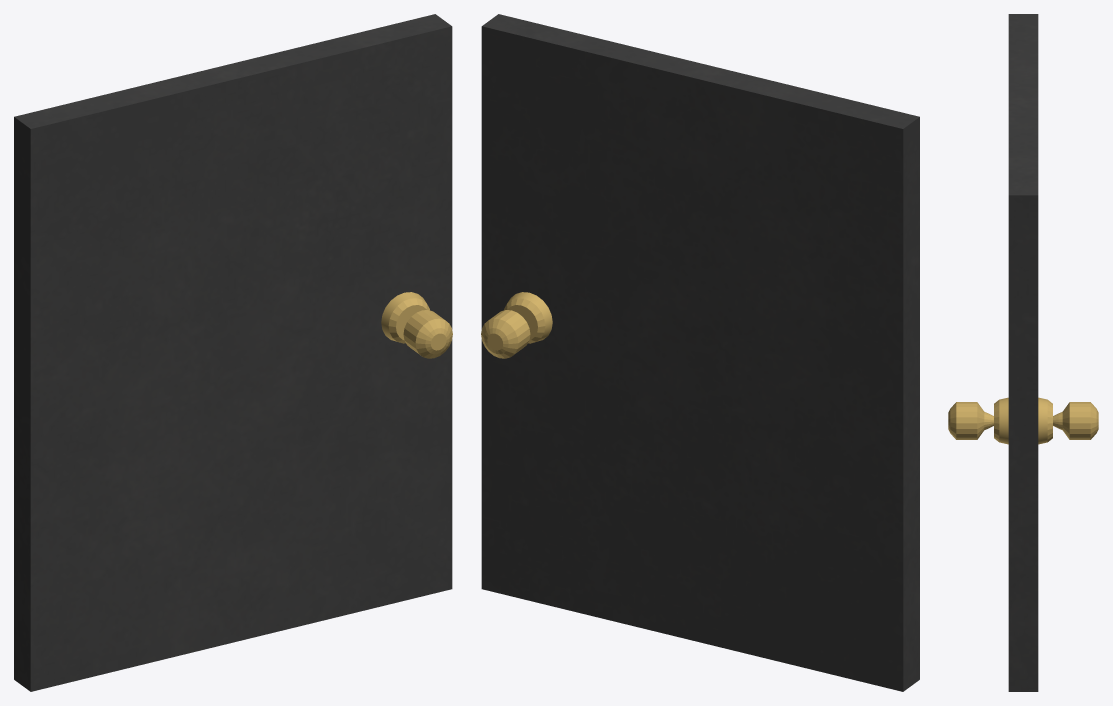
The model's file is Door.fbx.
The picture shows the model from 3 angles, left to right: view 1: azimuth 30°, elevation 25°; view 2: azimuth 150°, elevation 25°; view 3: azimuth 270°, elevation 25°; orthographic projection. The views are drawn at different scales.
Visible parts, largest first — view 1: pCube206, pCylinder113; view 2: pCube206, pCylinder114; view 3: pCube206, pCylinder114, pCylinder113.
Part boxes in pixels (x1,y1,x2,y2): pCube206: (14, 14, 452, 691); pCylinder113: (381, 292, 452, 358); pCube206: (481, 14, 919, 691); pCylinder114: (481, 292, 552, 358); pCube206: (1008, 14, 1038, 691); pCylinder114: (1038, 397, 1098, 444); pCylinder113: (948, 397, 1008, 444).
Size of the model in its own units: 1.62 by 2.07 by 0.5695.
